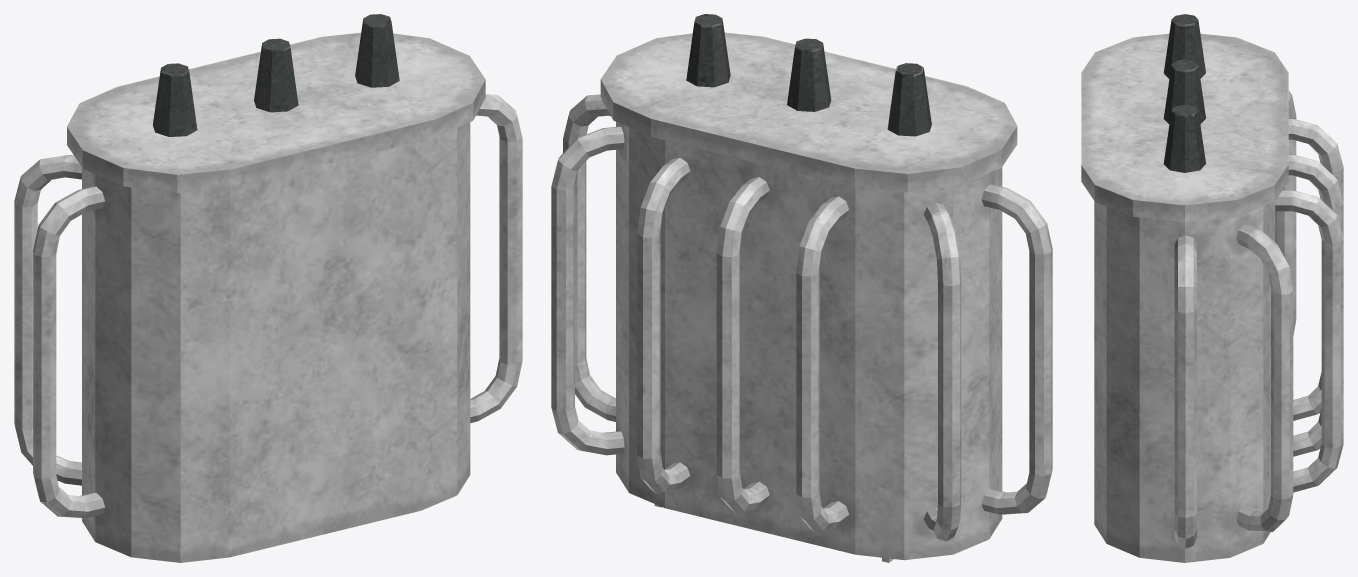
File: pole_10.glb
3 views of the same model, side by side, from view 1: azimuth 30°, elevation 25°; view 2: azimuth 150°, elevation 25°; view 3: azimuth 270°, elevation 25° (orthographic). The views are drawn at different scales.
Parts seen in each view (by area): view 1: geometry_0; view 2: geometry_0; view 3: geometry_0.
Boxes of the visible parts, left/top/right/bottom form: geometry_0: left=14, top=14, right=522, bottom=562; geometry_0: left=551, top=14, right=1052, bottom=562; geometry_0: left=1081, top=14, right=1343, bottom=562.
Size of the model in its own units: 0.0809 by 0.0735 by 0.041.
Materials: 1 (1 with a texture image).
